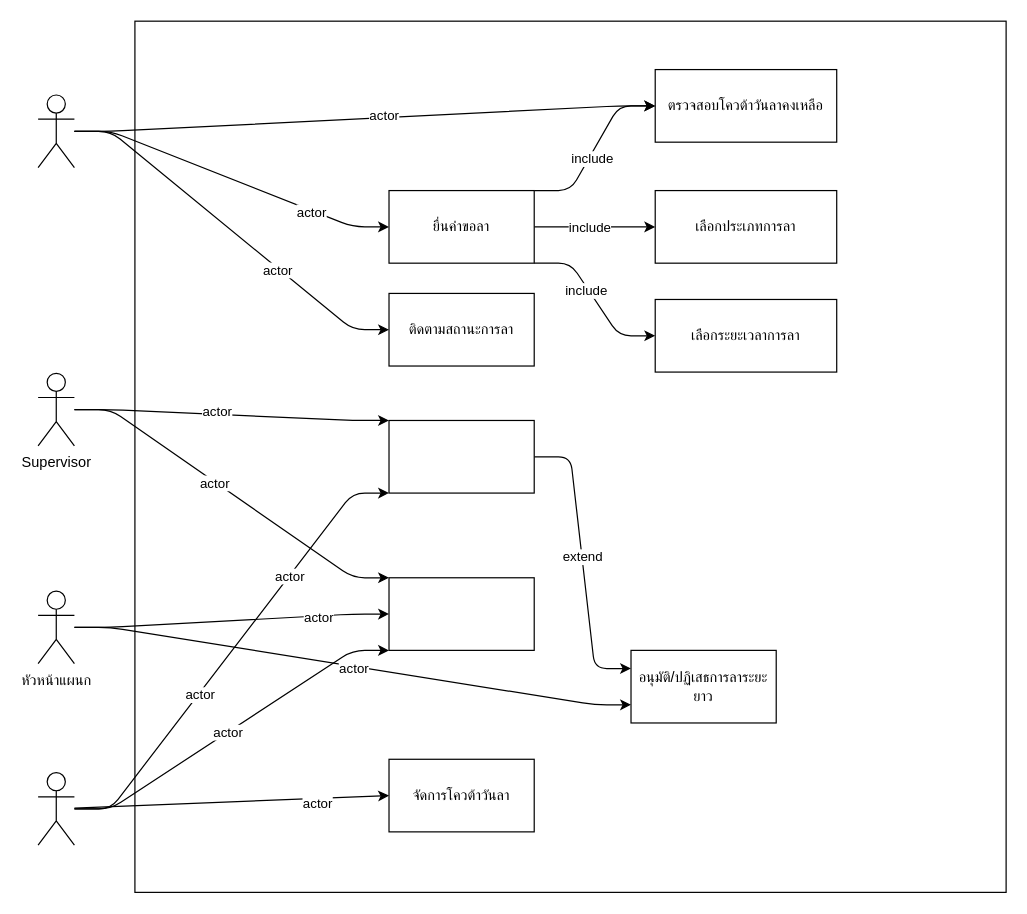
Image size: 1027x914. Some labels were removed from this diagram. The centre of each missing label's shape, as x and y in pixels:
"ดูข้อมูลการลาของพนักงาน" belongs at [461,613].
"ฝ่าย HR" belongs at [55,808].
"พนักงาน" belongs at [55,131].
"อนุมัติ/ปฏิเสธการลา" belongs at [461,456].
